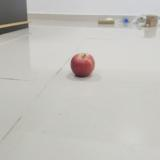apple: (71, 53, 95, 78)
